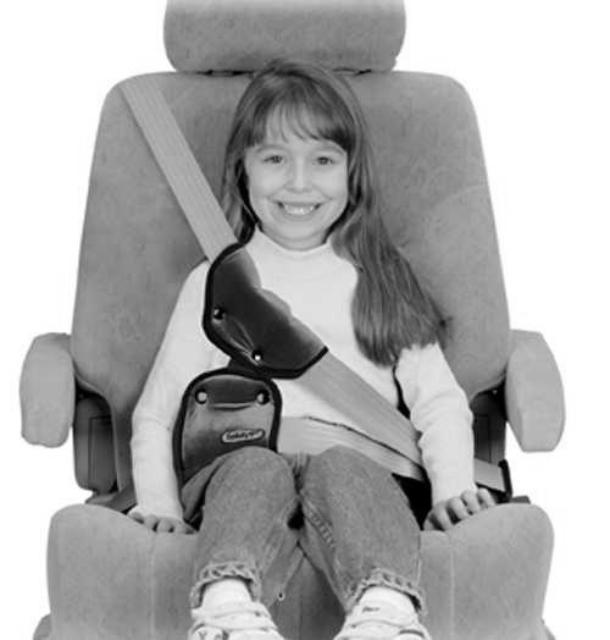SafeDriving: (306, 145, 344, 169), (256, 145, 293, 169)
Seatbelt: (134, 115, 514, 497)
